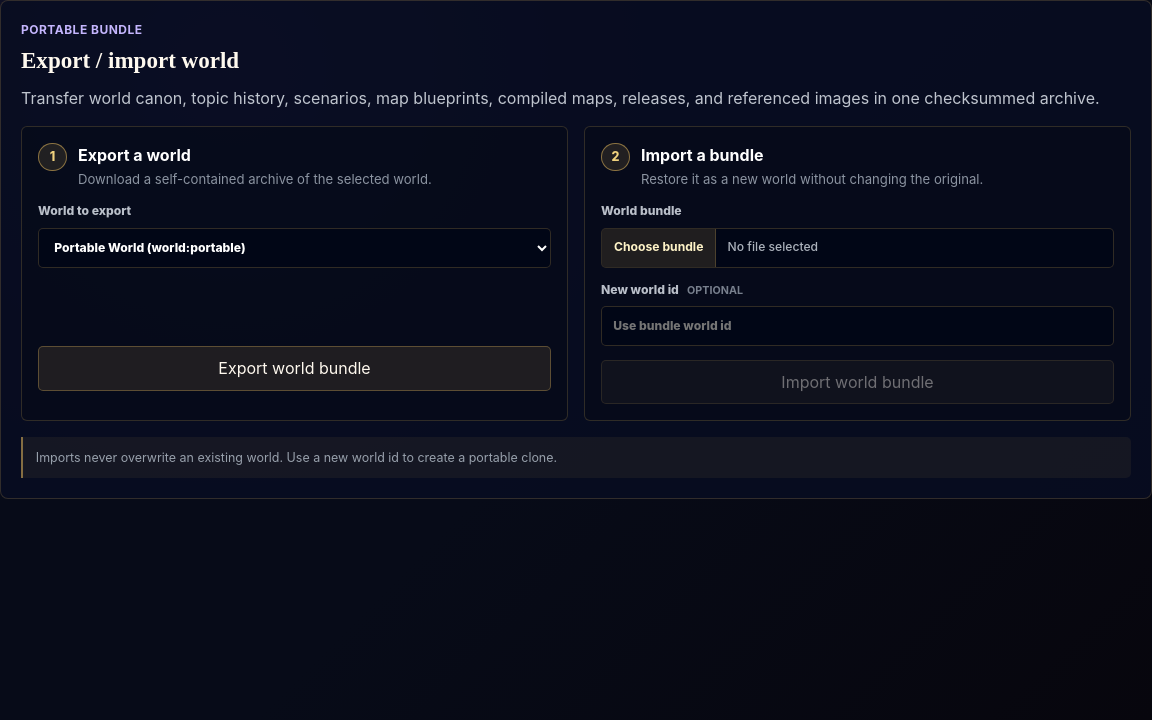
Test: RpgWorldBundleTransfer › downloads an exported world bundle
Click the button "Export world bundle" at (294, 369), box [38,346,551,391]
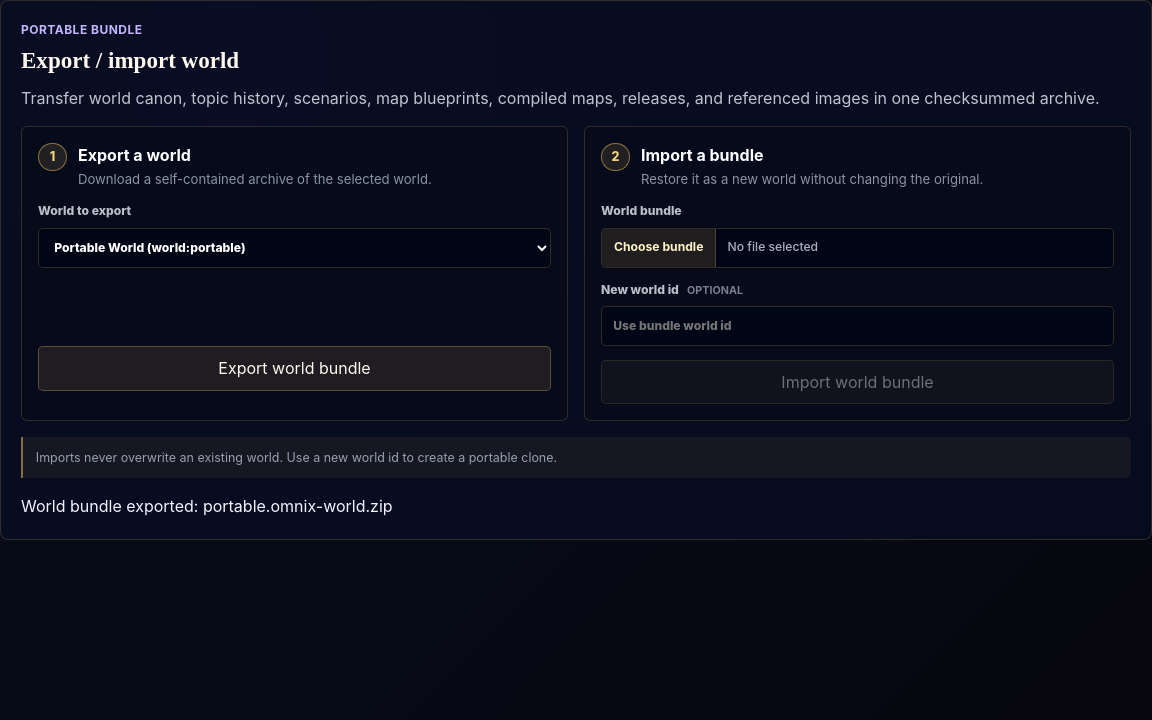
Expected: the text "World bundle exported: portable.omnix-world.zip" is shown, [21,496,393,516]
